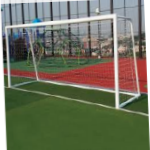goals: (4, 12, 141, 110)
